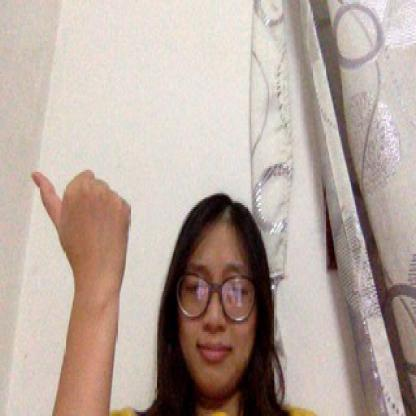right: (30, 160, 125, 279)
